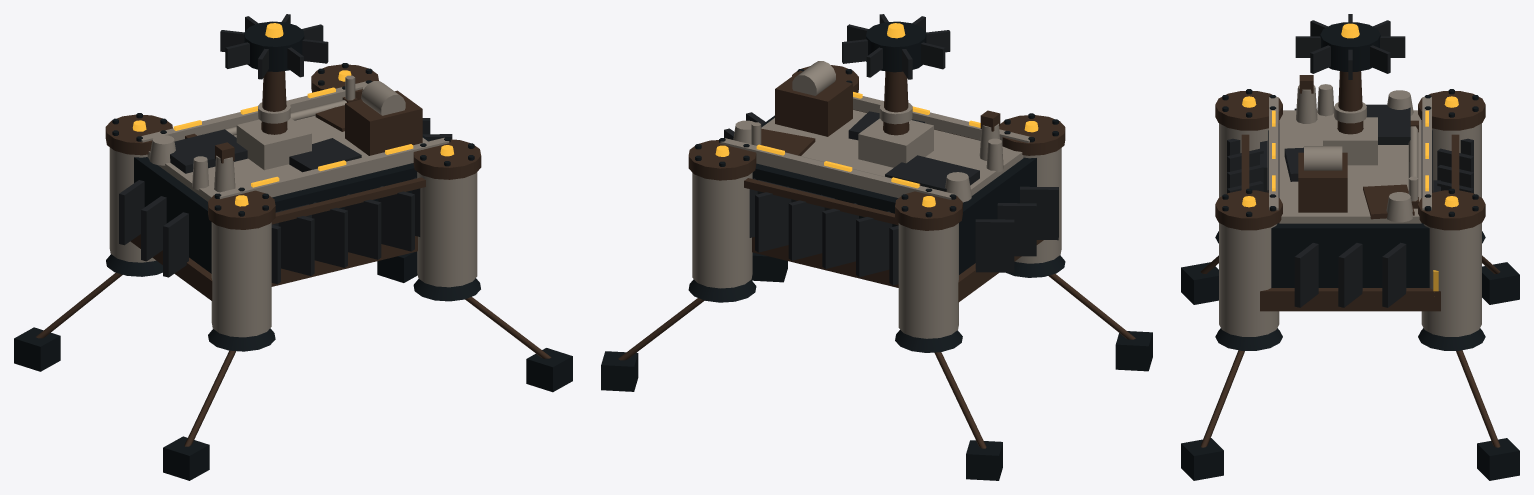
Rendered from baffle-barge-bathyarch.glb.
3 renders of one model, left to right at view 1: azimuth 30°, elevation 25°; view 2: azimuth 150°, elevation 25°; view 3: azimuth 270°, elevation 25°, orthographic.
Visible parts, largest first — view 1: pontoon-as, pontoon-fs, barge-hull, winch-house, deck-plate, gunwale-stb, mast-base, hull-skirt, pontoon-ap, pontoon-cap-as, pontoon-cap-fs, emitter-drum (+29 smaller); view 2: pontoon-ap, pontoon-fp, barge-hull, deck-plate, winch-house, gunwale-port, mast-base, baffle-vane-stern-1, hull-skirt, pontoon-cap-fp, pontoon-cap-ap, emitter-drum (+27 smaller); view 3: barge-hull, deck-plate, pontoon-fs, pontoon-fp, hull-skirt, winch-house, emitter-drum, pontoon-cap-fp, pontoon-cap-fs, pontoon-cap-ap, pontoon-cap-as, mast-base (+36 smaller).
Boxes of the visible parts, box(x1,y1,x2,y2) form: pontoon-as: box(211, 222, 271, 337); pontoon-fs: box(417, 172, 477, 287); barge-hull: box(134, 135, 430, 273); winch-house: box(345, 90, 422, 155); deck-plate: box(147, 115, 427, 201); gunwale-stb: box(215, 137, 449, 198); mast-base: box(236, 118, 311, 170); hull-skirt: box(130, 234, 417, 300); pontoon-ap: box(109, 147, 155, 262); pontoon-cap-as: box(208, 190, 275, 229); pontoon-cap-fs: box(413, 139, 481, 179); emitter-drum: box(244, 21, 304, 71); pontoon-ap: box(898, 223, 958, 338); pontoon-fp: box(692, 172, 752, 288); barge-hull: box(752, 115, 1036, 274); deck-plate: box(756, 110, 1023, 197); winch-house: box(775, 70, 852, 136); gunwale-port: box(720, 138, 955, 199); mast-base: box(858, 118, 933, 167); baffle-vane-stern-1: box(975, 219, 1014, 272); hull-skirt: box(752, 237, 1043, 302); pontoon-cap-fp: box(688, 140, 756, 180); pontoon-cap-ap: box(895, 191, 962, 230); emitter-drum: box(866, 21, 926, 72); barge-hull: box(1268, 123, 1432, 287); deck-plate: box(1279, 110, 1421, 223); pontoon-fs: box(1219, 223, 1279, 336); pontoon-fp: box(1421, 223, 1481, 336); hull-skirt: box(1260, 190, 1440, 311); winch-house: box(1298, 152, 1347, 212); emitter-drum: box(1320, 22, 1380, 71); pontoon-cap-fp: box(1418, 190, 1485, 230); pontoon-cap-fs: box(1215, 190, 1282, 230); pontoon-cap-ap: box(1418, 91, 1485, 130); pontoon-cap-as: box(1215, 91, 1282, 130); mast-base: box(1323, 117, 1377, 165).
Size of the model in its own units: 180 by 150 by 133.
